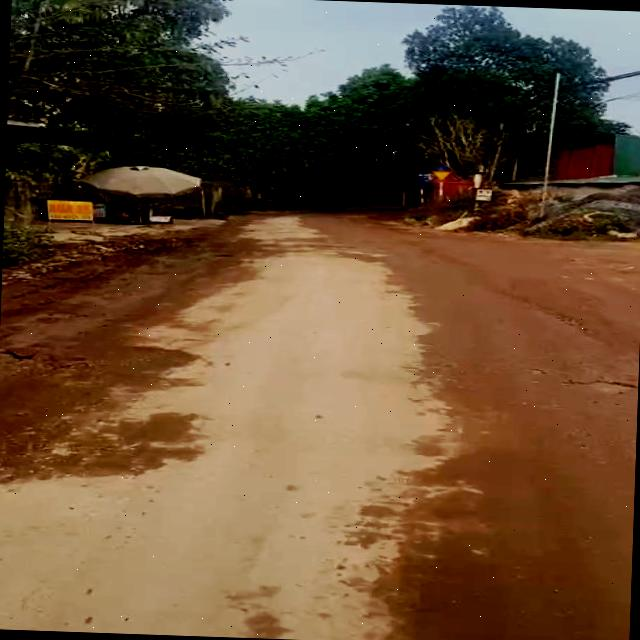pothole: (0, 339, 203, 388)
